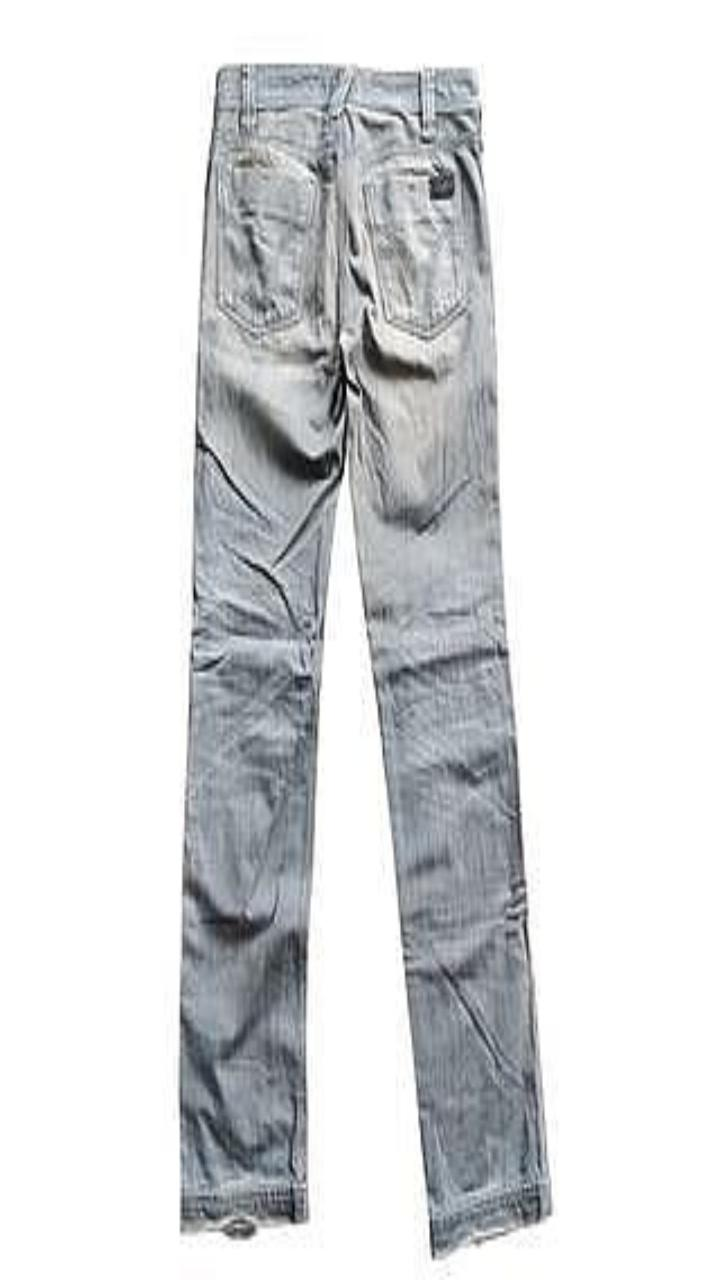Jeans: (180, 63, 550, 1255)
